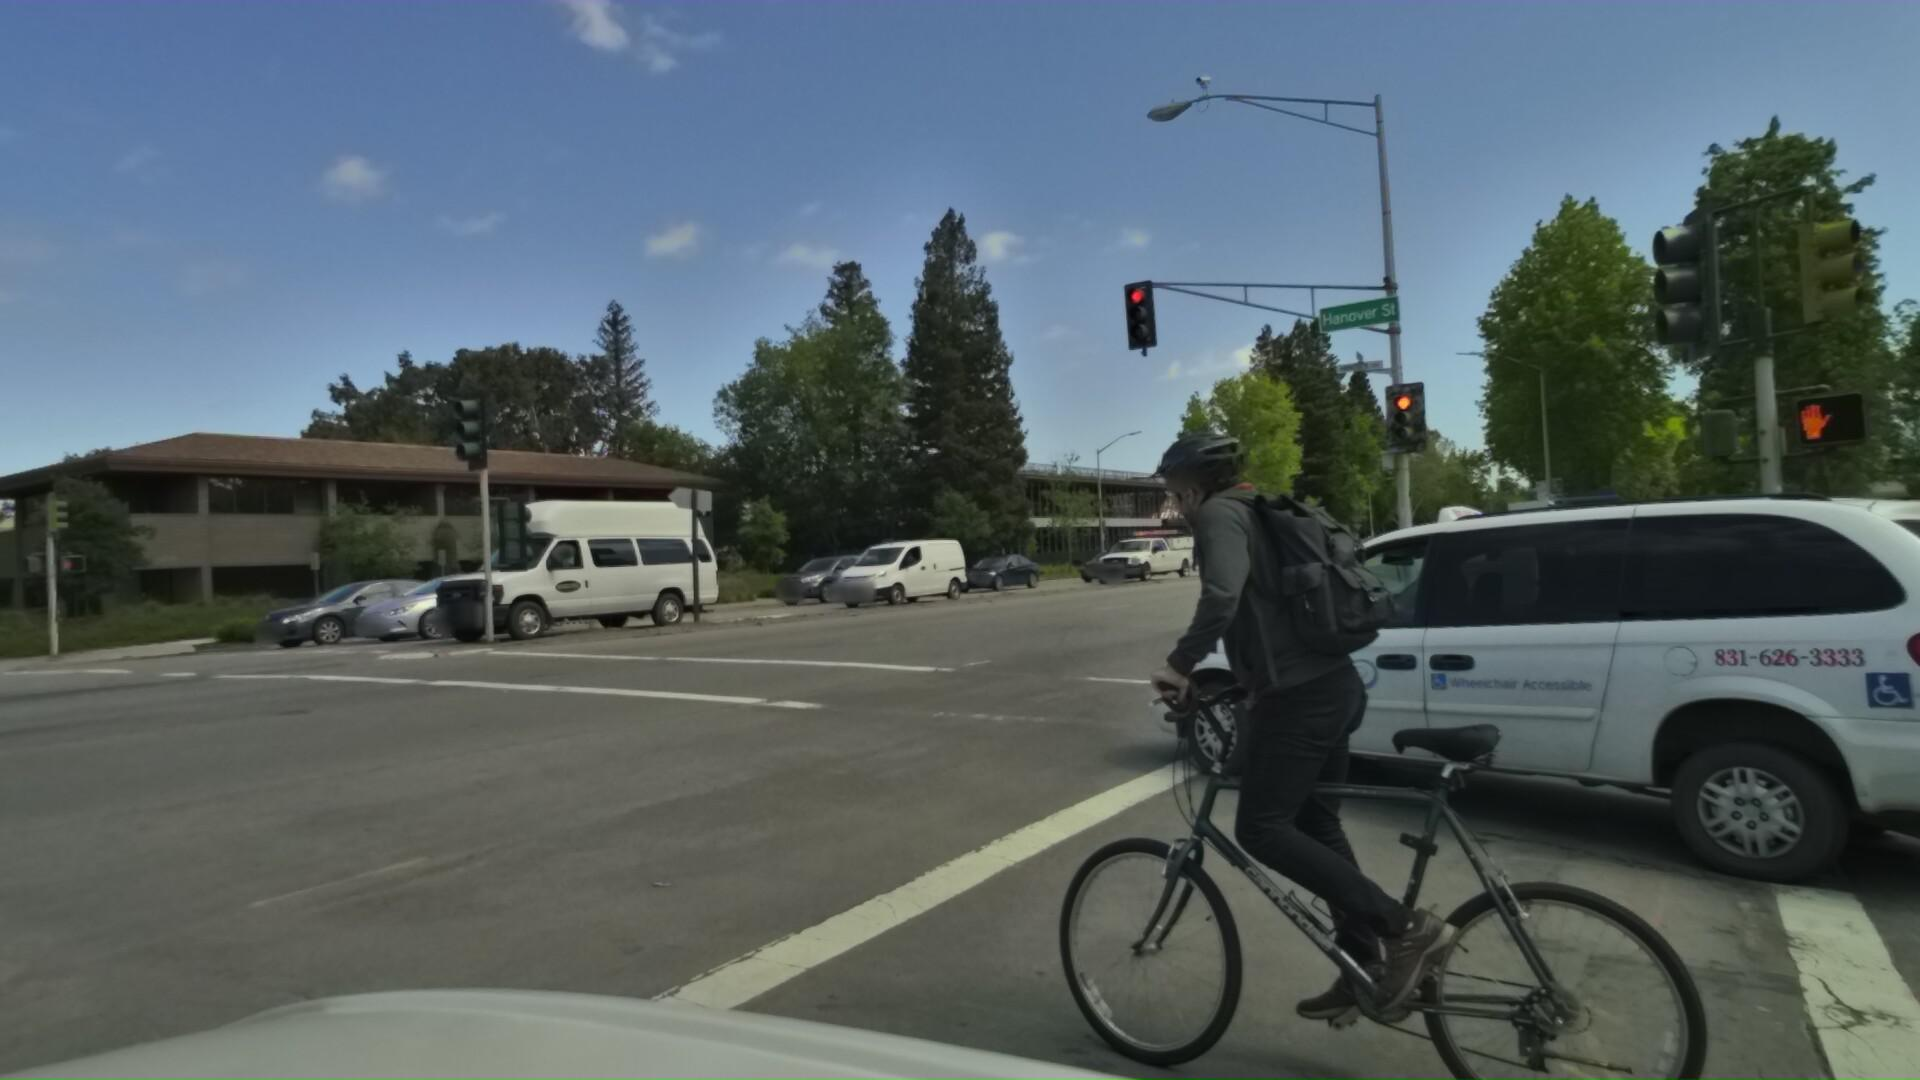bicycle: (951, 342, 1708, 1080)
car: (1127, 459, 1920, 980), (410, 495, 737, 645), (237, 568, 491, 653), (335, 559, 578, 646), (819, 531, 977, 607), (1089, 513, 1204, 579), (767, 546, 895, 604), (949, 545, 1044, 589), (1069, 539, 1153, 579), (1233, 538, 1279, 560)
